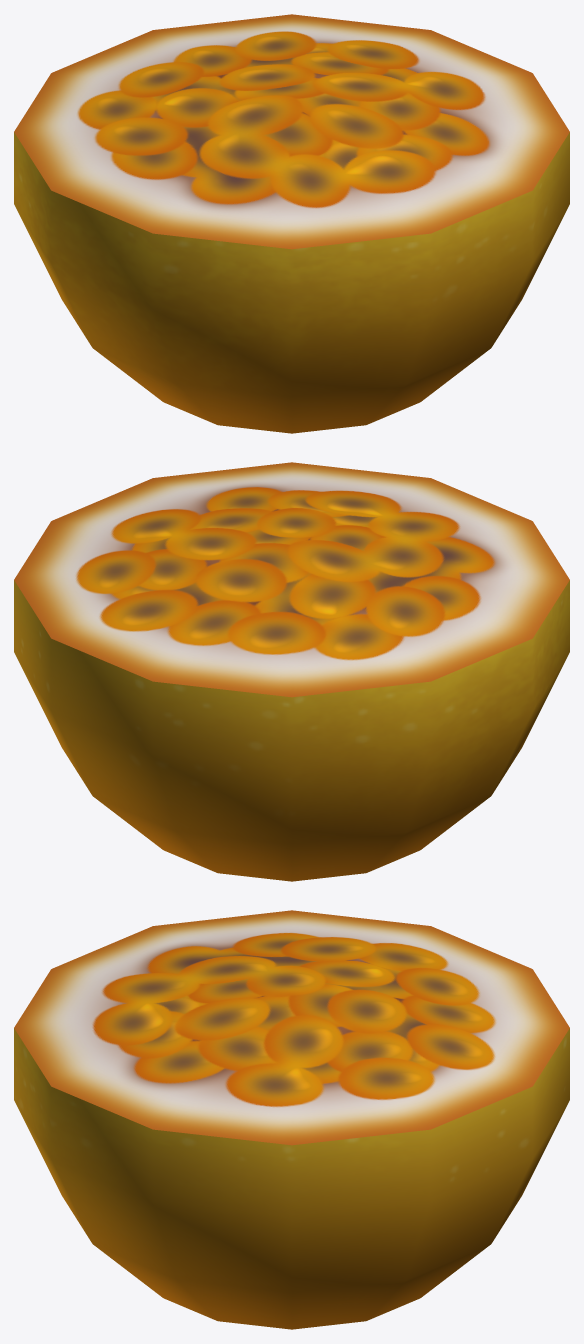
Rendered from PassionFruit_Yellow_Half.fbx.
3 views of the same model, one above another, from view 1: azimuth 30°, elevation 25°; view 2: azimuth 150°, elevation 25°; view 3: azimuth 270°, elevation 25° (orthographic).
Parts seen in each view (by area): view 1: PassionFruit_Yellow_Half; view 2: PassionFruit_Yellow_Half; view 3: PassionFruit_Yellow_Half.
Part boxes in pixels (x1,y1,x2,y2): PassionFruit_Yellow_Half: [14, 14, 569, 433]; PassionFruit_Yellow_Half: [14, 462, 569, 881]; PassionFruit_Yellow_Half: [14, 910, 569, 1329].
Size of the model in its own units: 31.03 by 19.19 by 31.03.
1 material, 1 textured.
